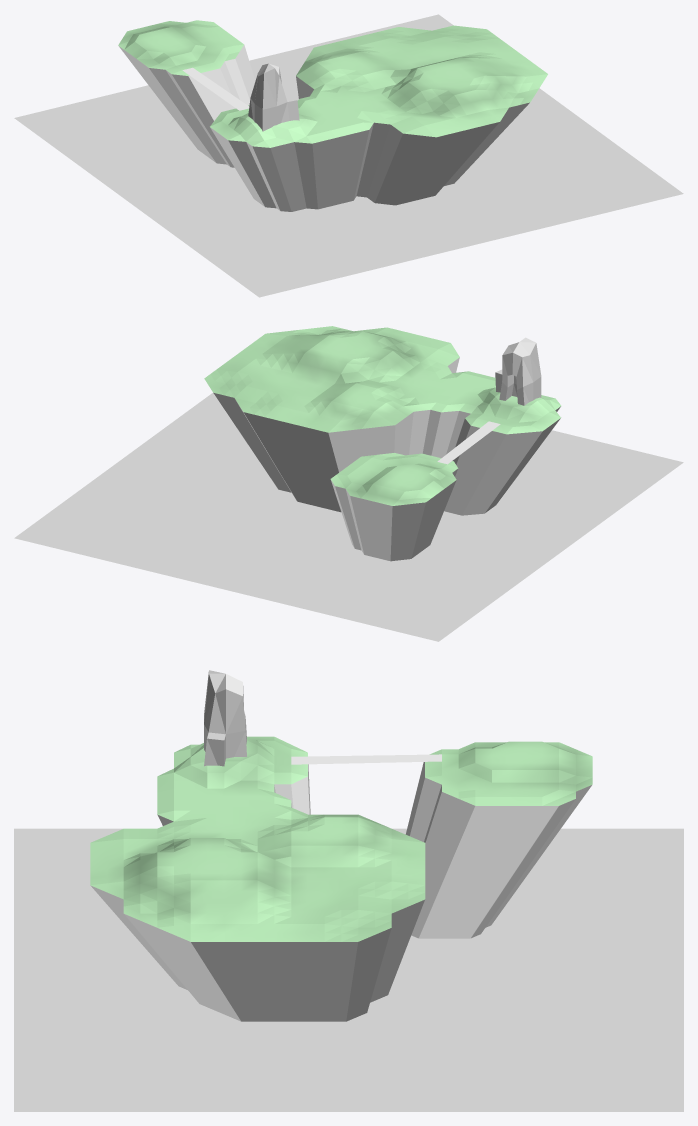
File: ISLEvdraw.dae
3 views of the same model, one above another, from view 1: azimuth 30°, elevation 25°; view 2: azimuth 150°, elevation 25°; view 3: azimuth 270°, elevation 25° (orthographic). The views are drawn at different scales.
Parts seen in each view (by area): view 1: Plane.001, Plane.002, Plane, Cube; view 2: Plane.001, Plane.002, Plane, Cube; view 3: Plane.001, Plane.002, Plane, Cube.
Part boxes in pixels (x1,y1,x2,y2): Plane.001: (14,14,683,297); Plane.002: (118,20,547,147); Plane: (119,45,529,211); Cube: (248,63,299,131); Plane.001: (14,393,683,641); Plane.002: (204,326,561,505); Plane: (213,357,560,561); Cube: (495,337,541,405); Plane.001: (14,828,683,1111); Plane.002: (90,736,592,941); Plane: (90,754,591,1021); Cube: (204,670,246,766).
Bounding box in the file's own units: 80 × 80 × 31.6.
